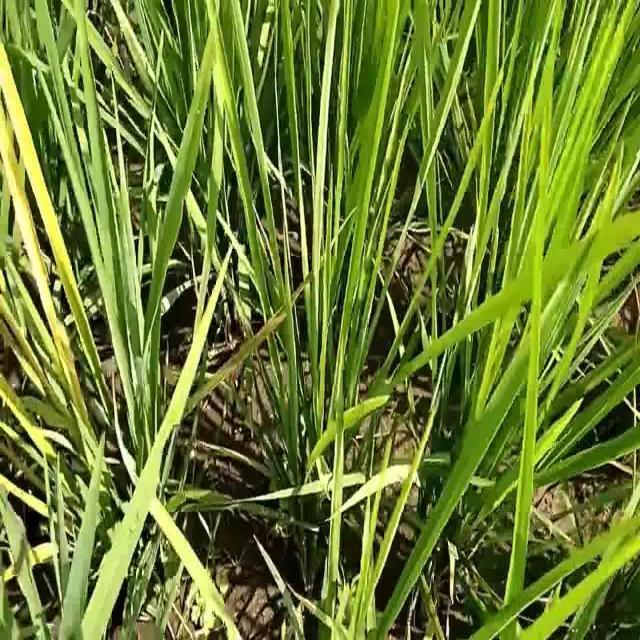Rice Tungro: (0, 57, 88, 333), (1, 119, 81, 391)
